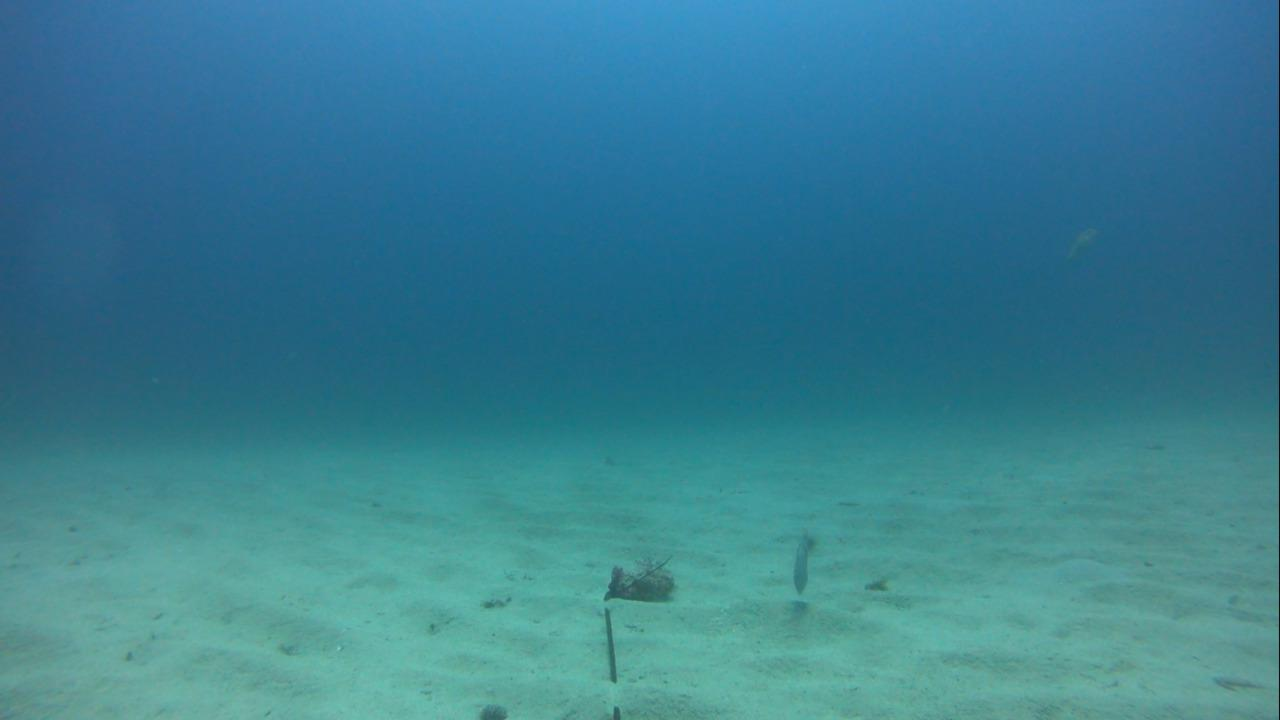raor: (772, 520, 823, 602), (1055, 218, 1103, 269)
